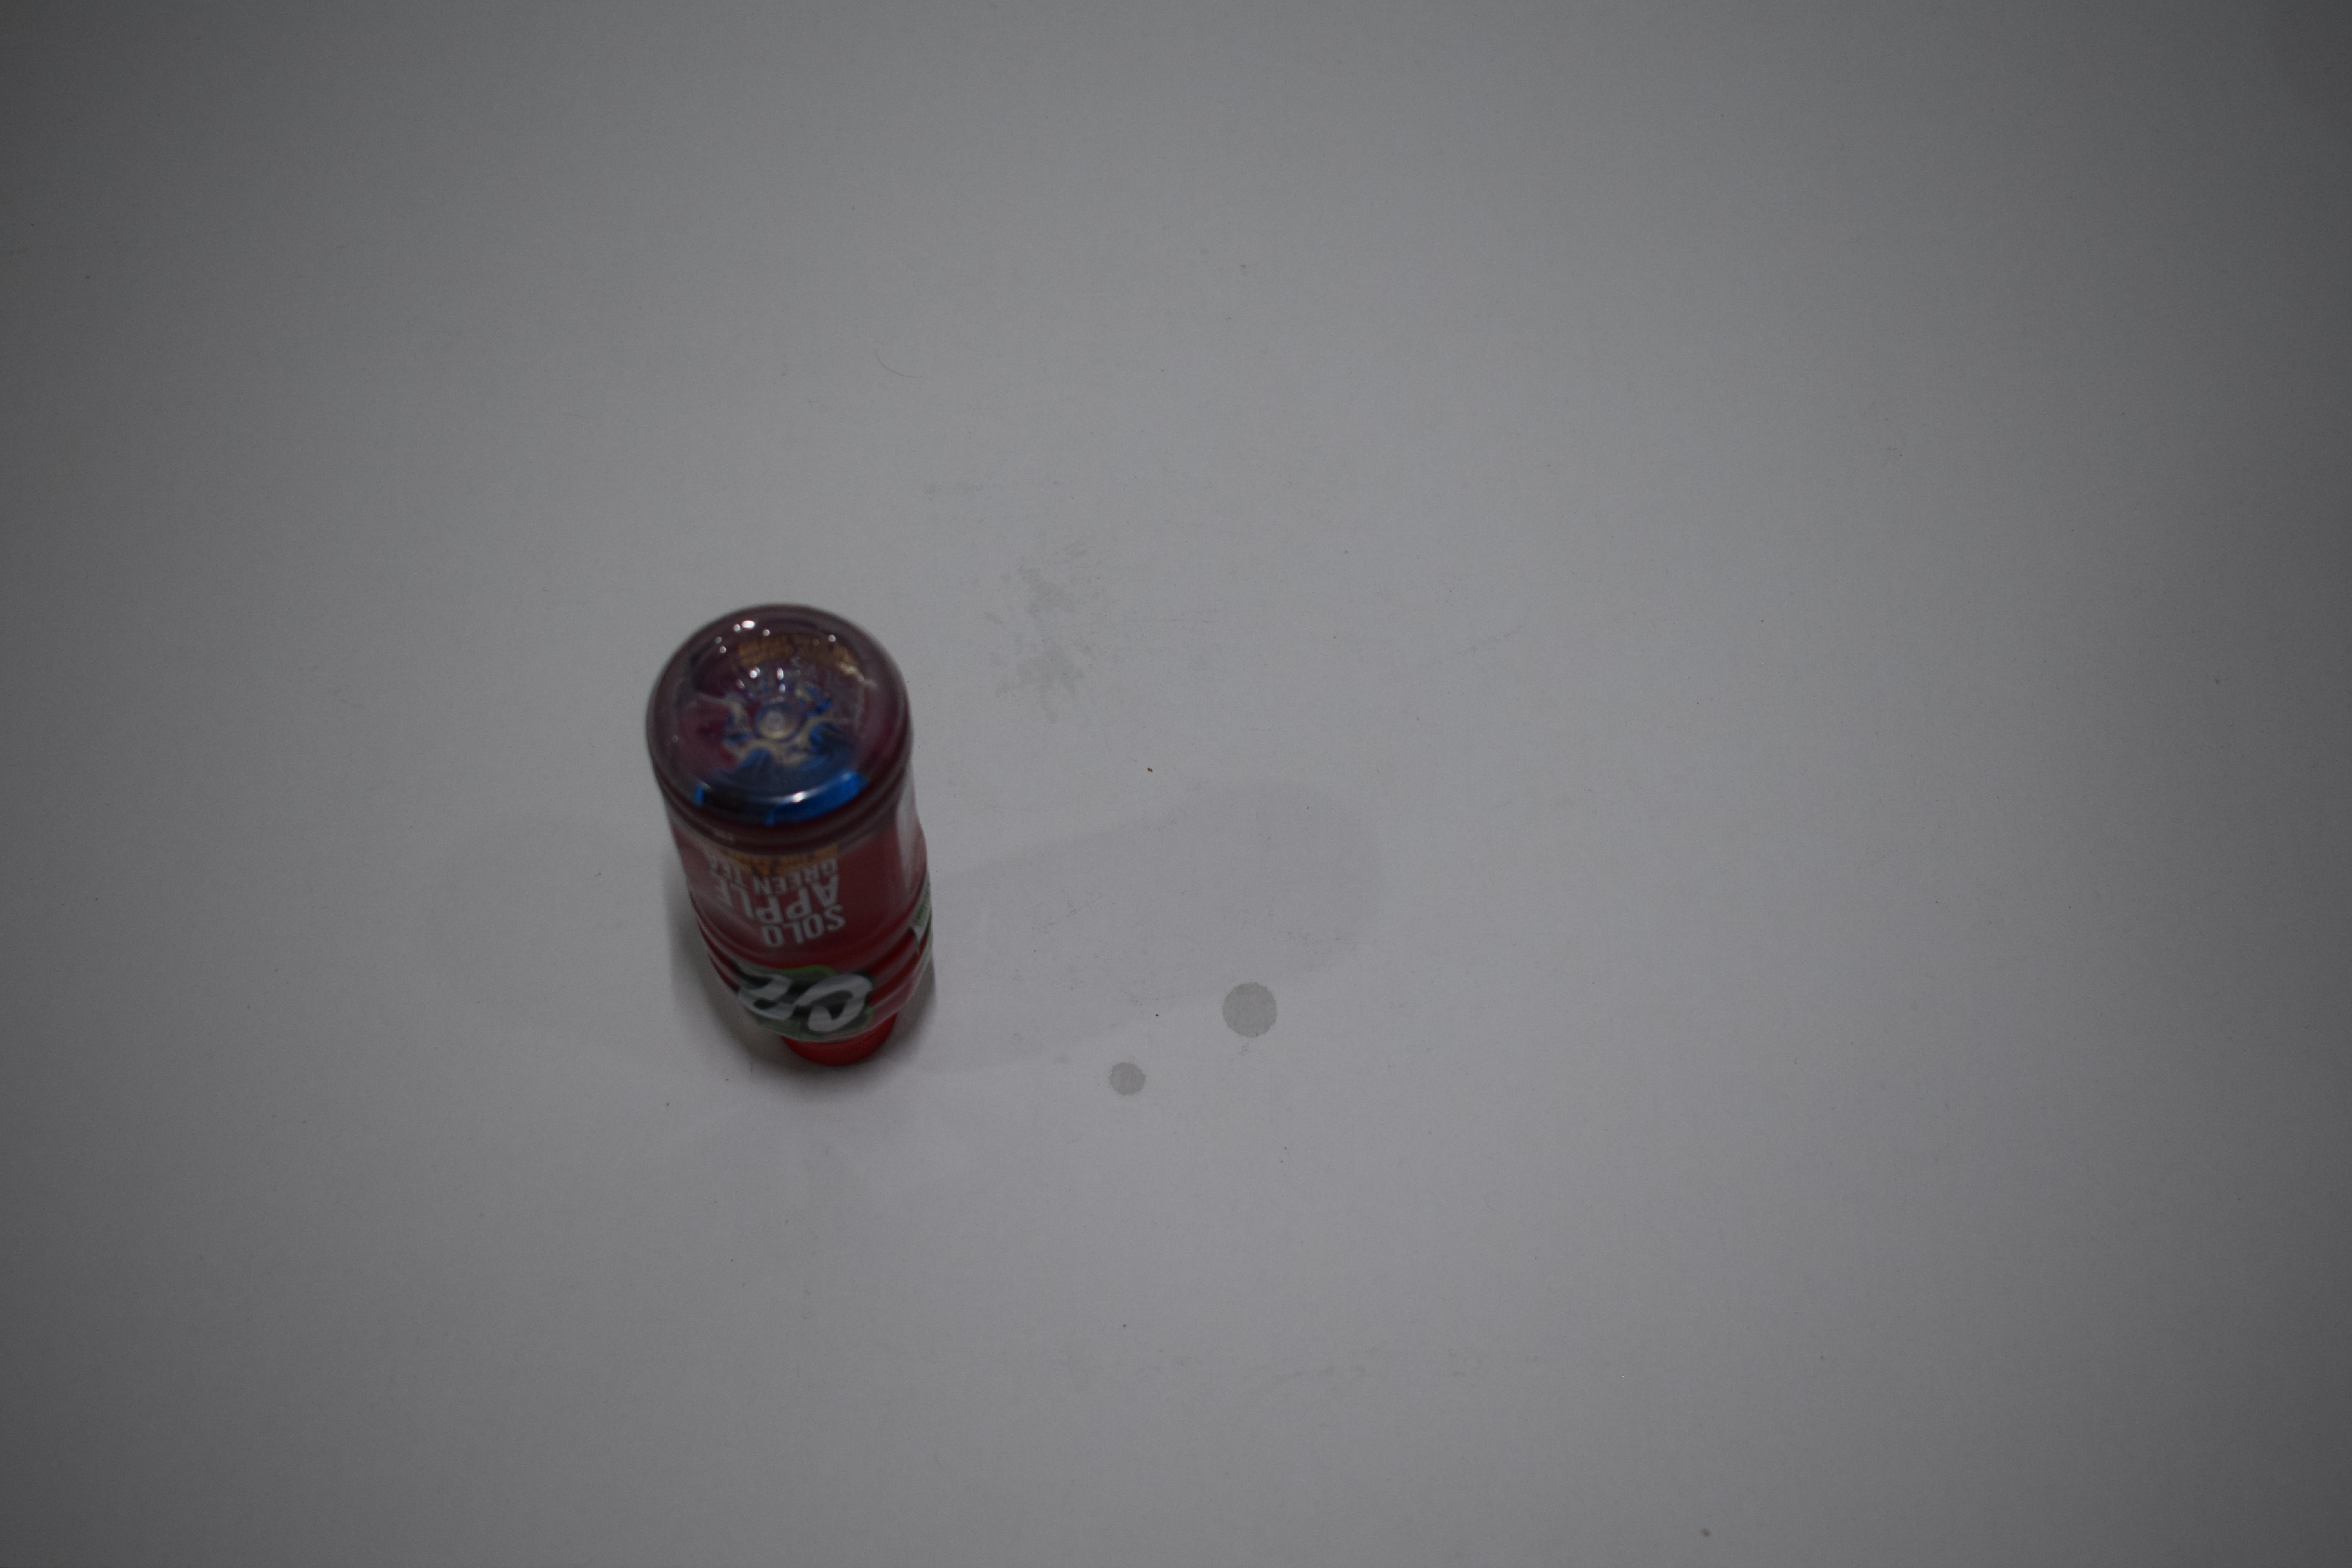bottle: (623, 0, 929, 294)
